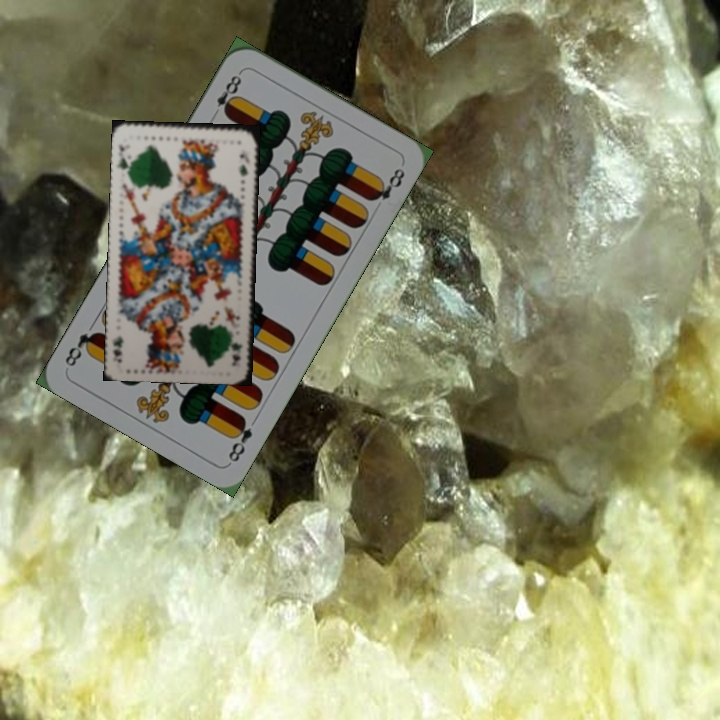E8: (208, 67, 245, 120), (224, 412, 256, 465)
GK: (114, 141, 133, 176), (228, 338, 244, 368)
